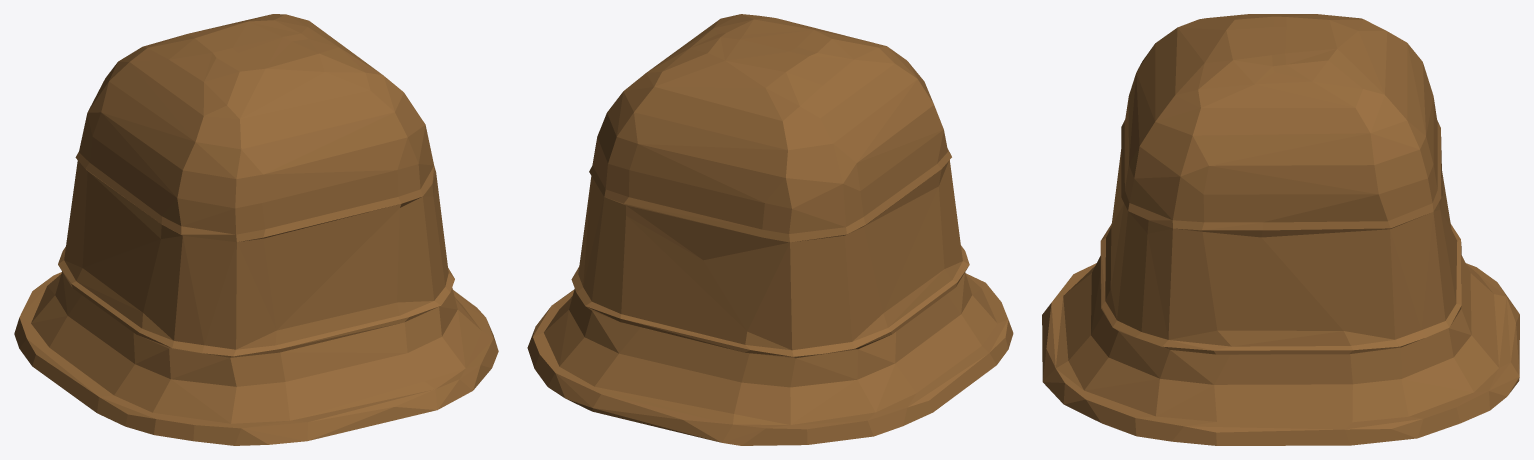
Rendered from BellInt.fbx.
The picture shows the model from 3 angles, left to right: view 1: azimuth 30°, elevation 25°; view 2: azimuth 150°, elevation 25°; view 3: azimuth 270°, elevation 25°; orthographic projection. The views are drawn at different scales.
Visible parts, largest first — view 1: Cube.007; view 2: Cube.007; view 3: Cube.007.
Boxes of the visible parts, box(x1,y1,x2,y2) form: Cube.007: box(14, 14, 498, 445); Cube.007: box(527, 14, 1013, 445); Cube.007: box(1042, 14, 1519, 445).
Size of the model in its own units: 1247 by 1283 by 922.
